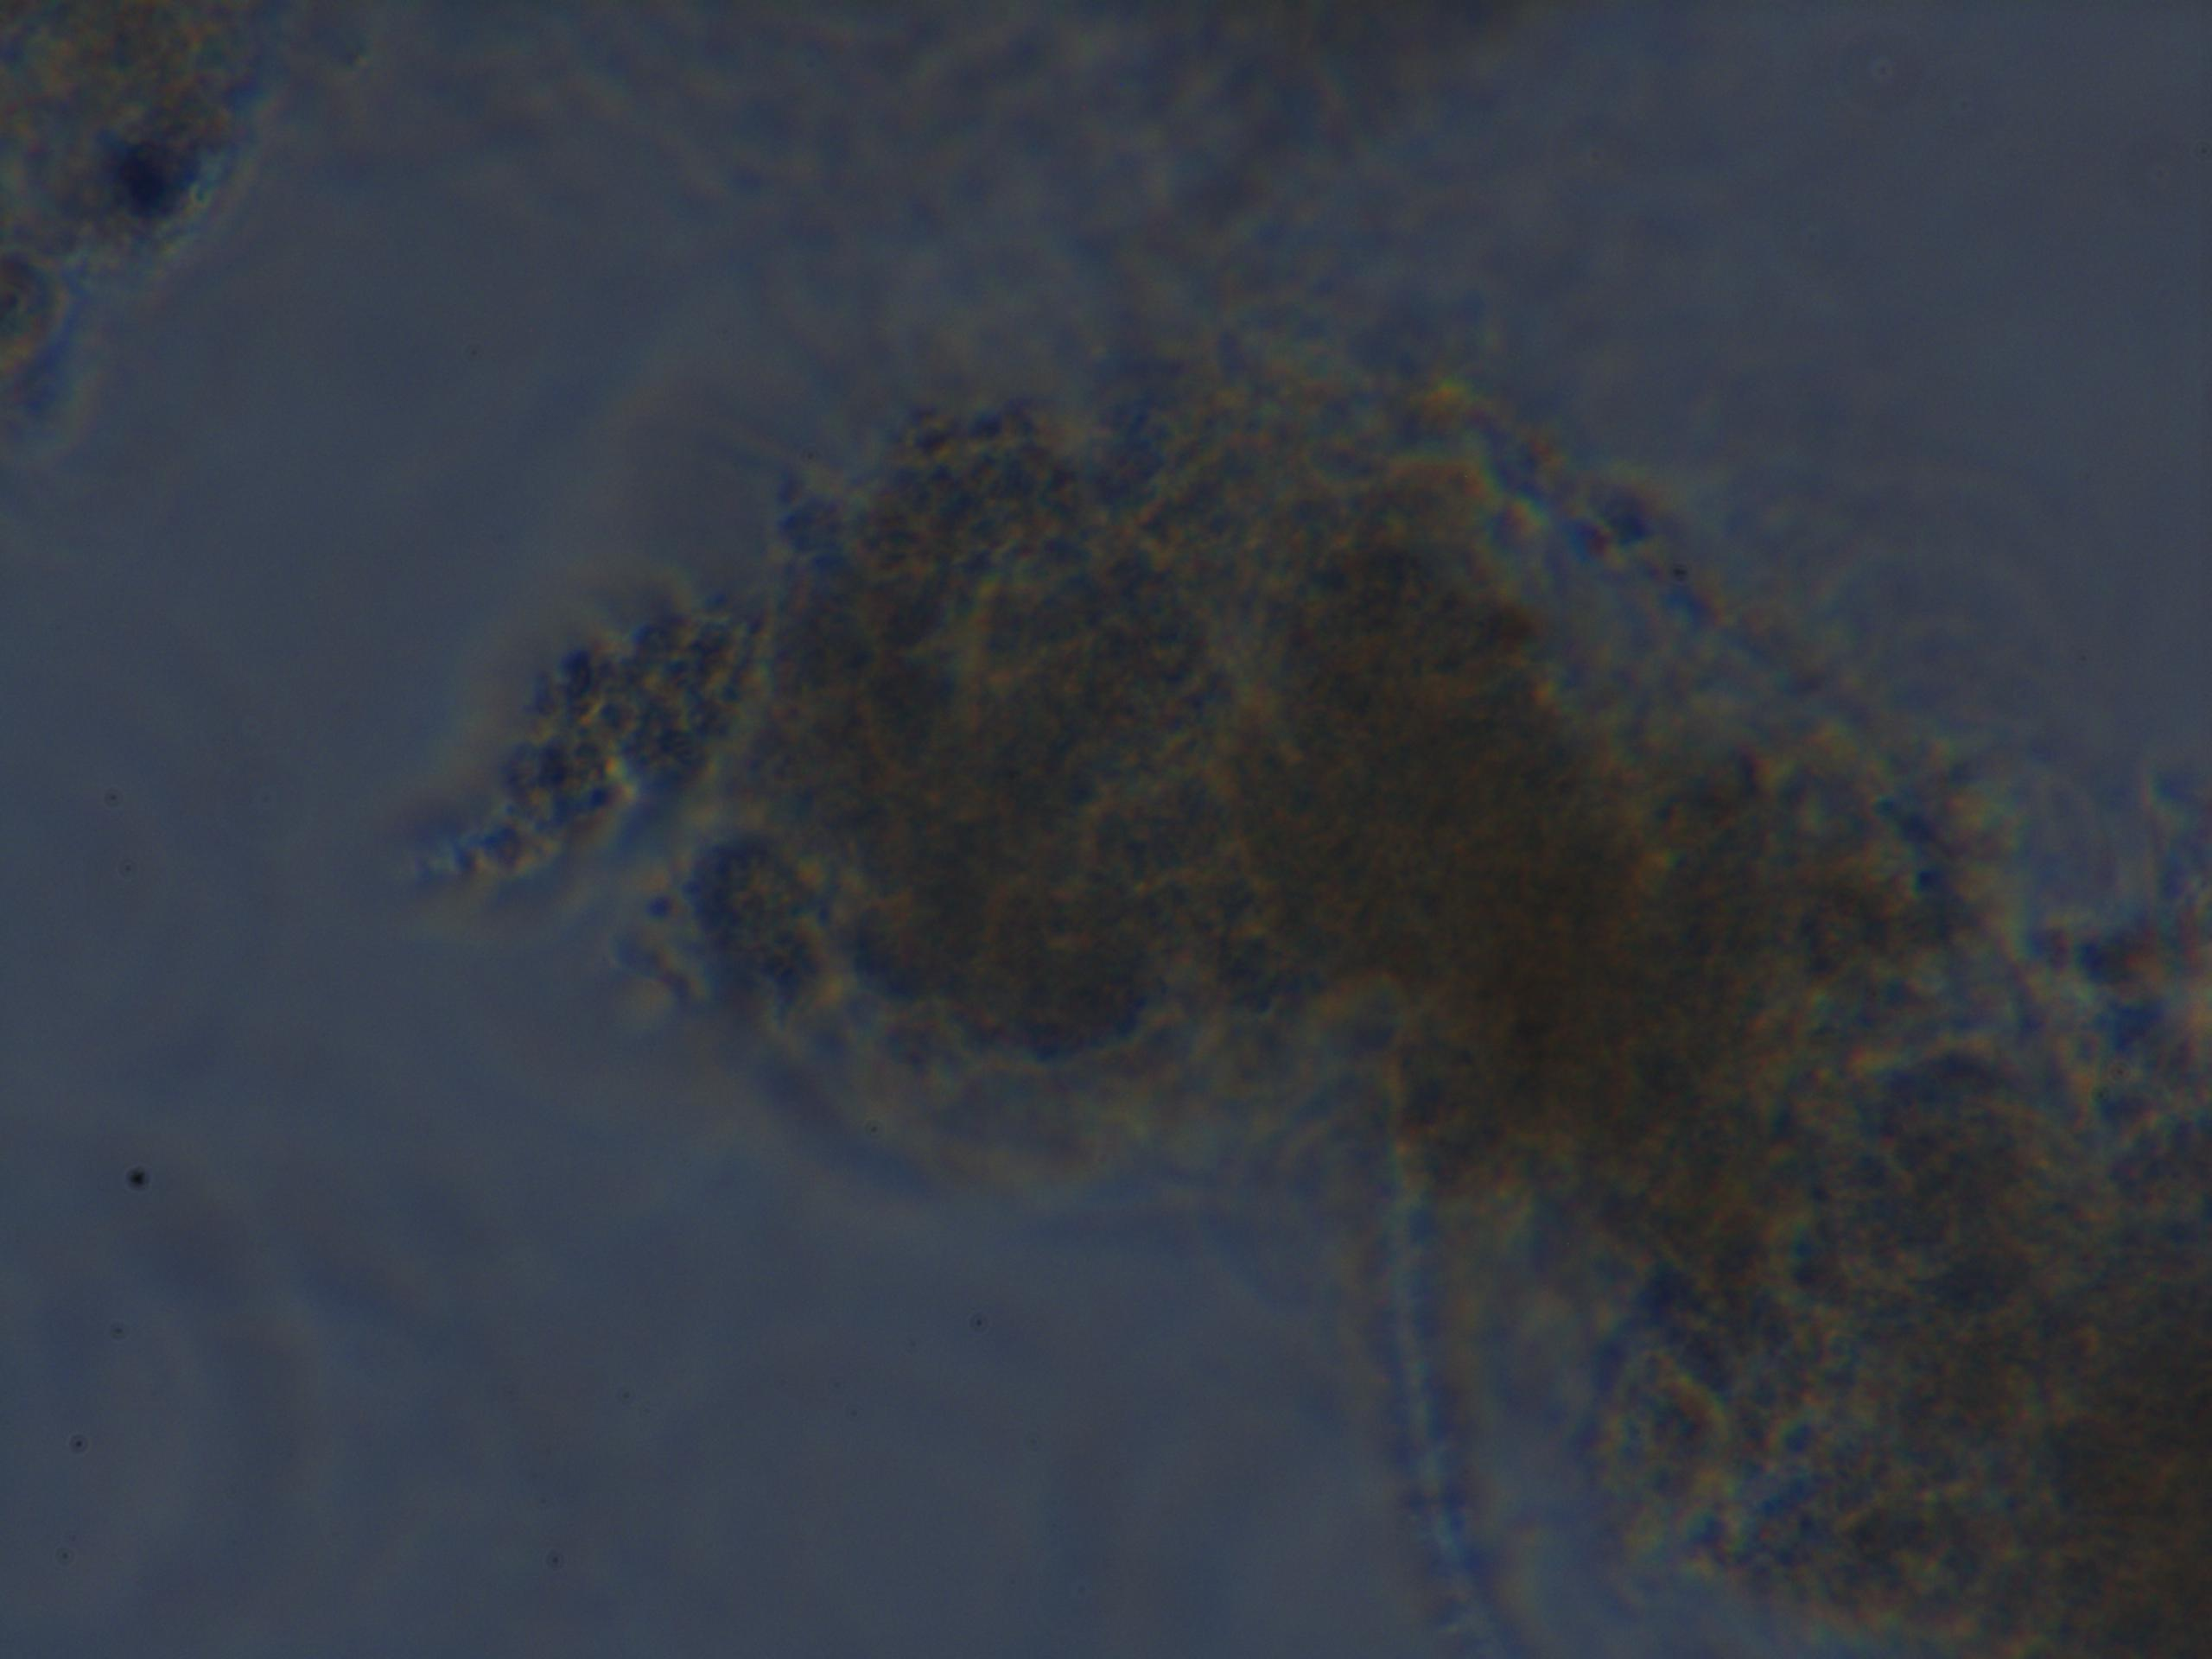filament: (1484, 446, 1949, 732), (1353, 1093, 1496, 1659)
